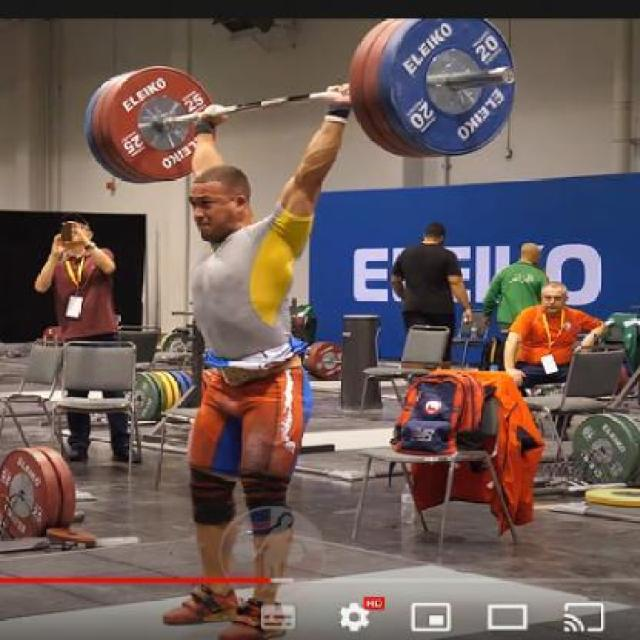barbell: (380, 1, 524, 165)
